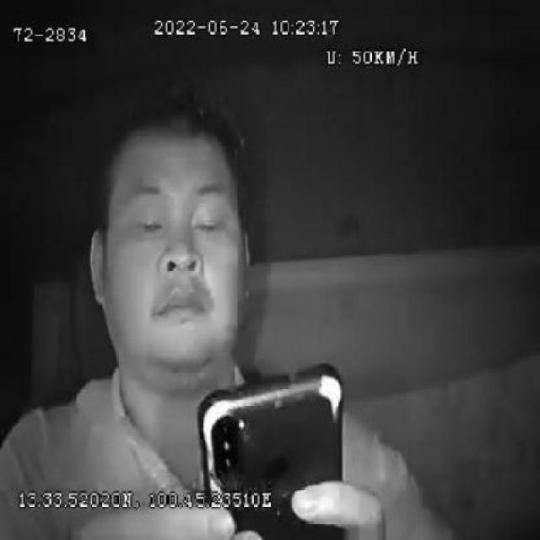phone: (196, 358, 341, 540)
